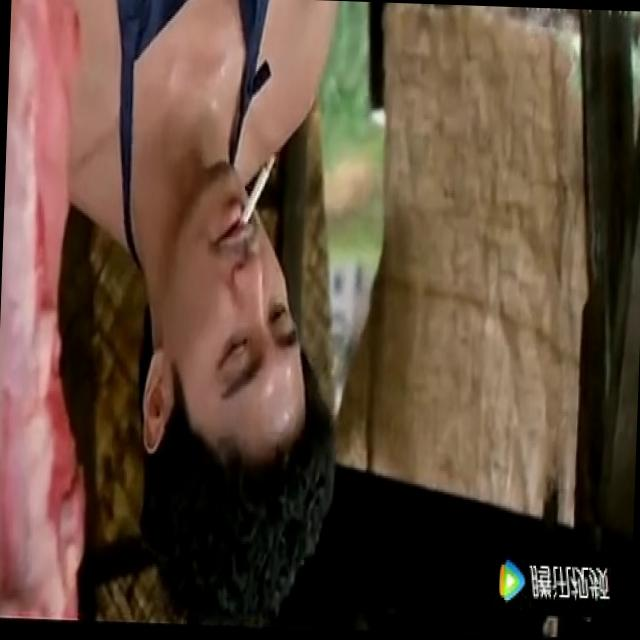cigarette: (241, 152, 275, 228)
